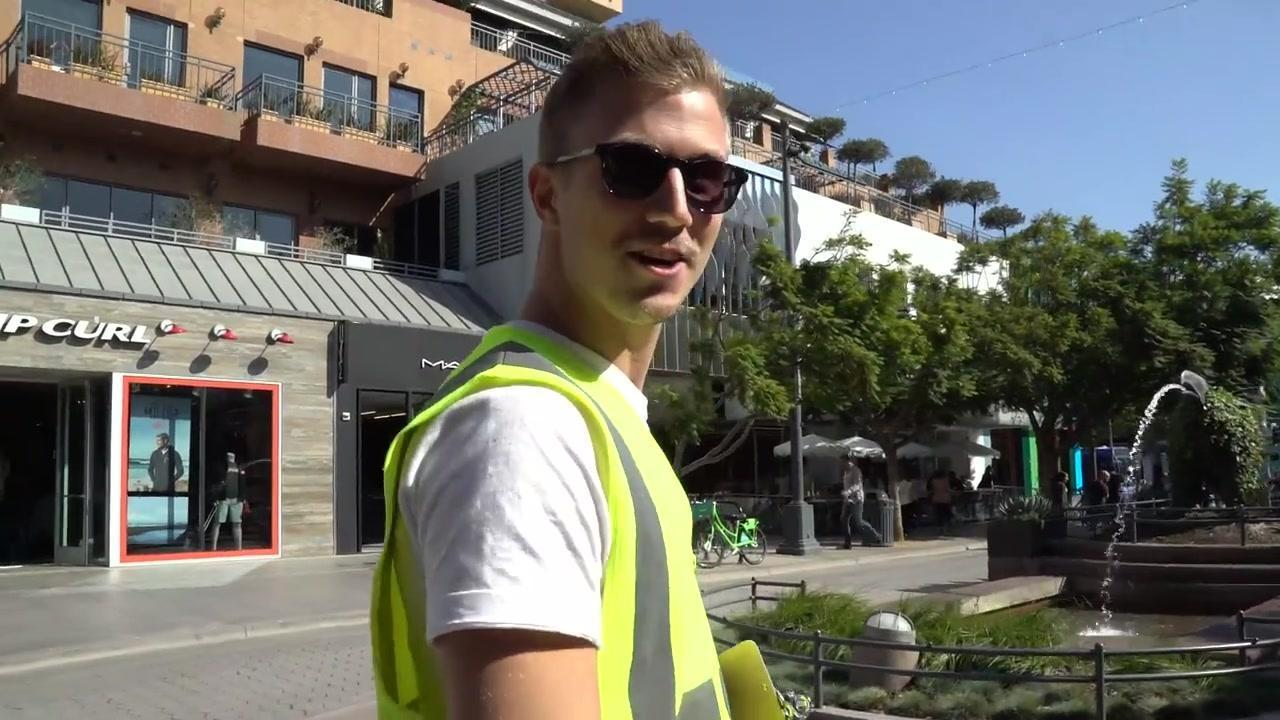vest: (367, 325, 733, 719)
